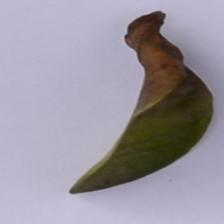black spot: (100, 18, 216, 103)
